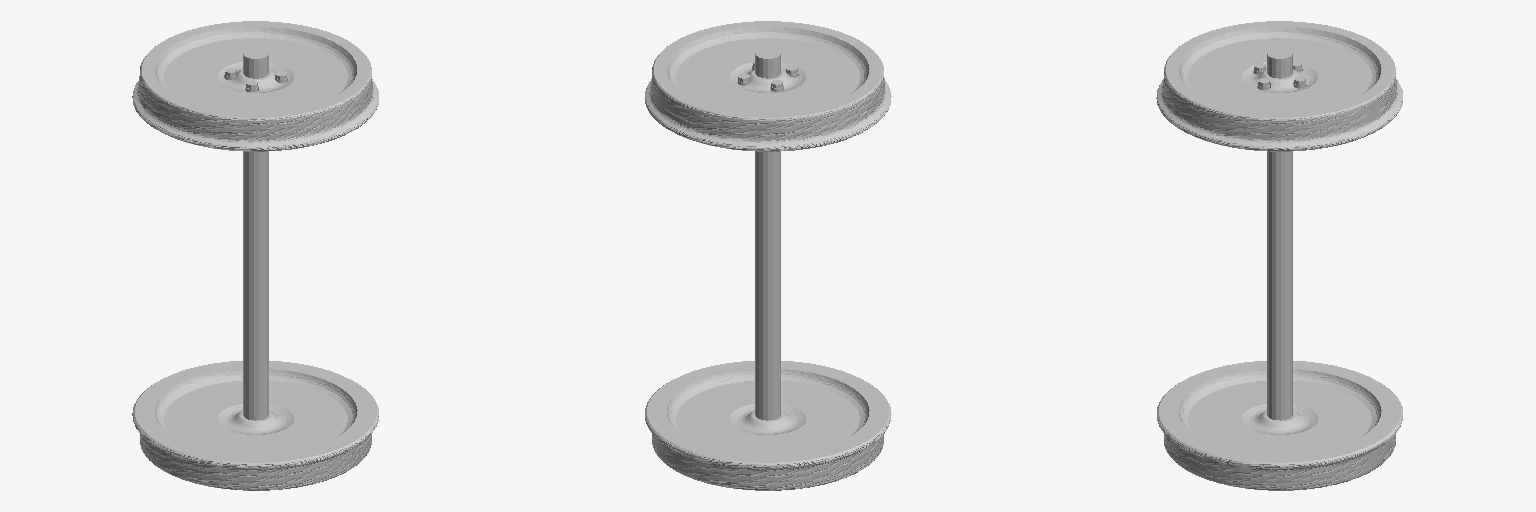
File: theWheelSet.obj
3 views of the same model, side by side, from view 1: azimuth 30°, elevation 25°; view 2: azimuth 150°, elevation 25°; view 3: azimuth 270°, elevation 25° (orthographic).
Parts seen in each view (by area): view 1: Mesh_Mesh_WheelsetWithTexture; view 2: Mesh_Mesh_WheelsetWithTexture; view 3: Mesh_Mesh_WheelsetWithTexture.
Part boxes in pixels (x1,y1,x2,y2): Mesh_Mesh_WheelsetWithTexture: (132,21,378,490); Mesh_Mesh_WheelsetWithTexture: (645,21,891,490); Mesh_Mesh_WheelsetWithTexture: (1156,21,1402,490).
Bounding box in the file's own units: 0.9678 × 1.75 × 0.9679.